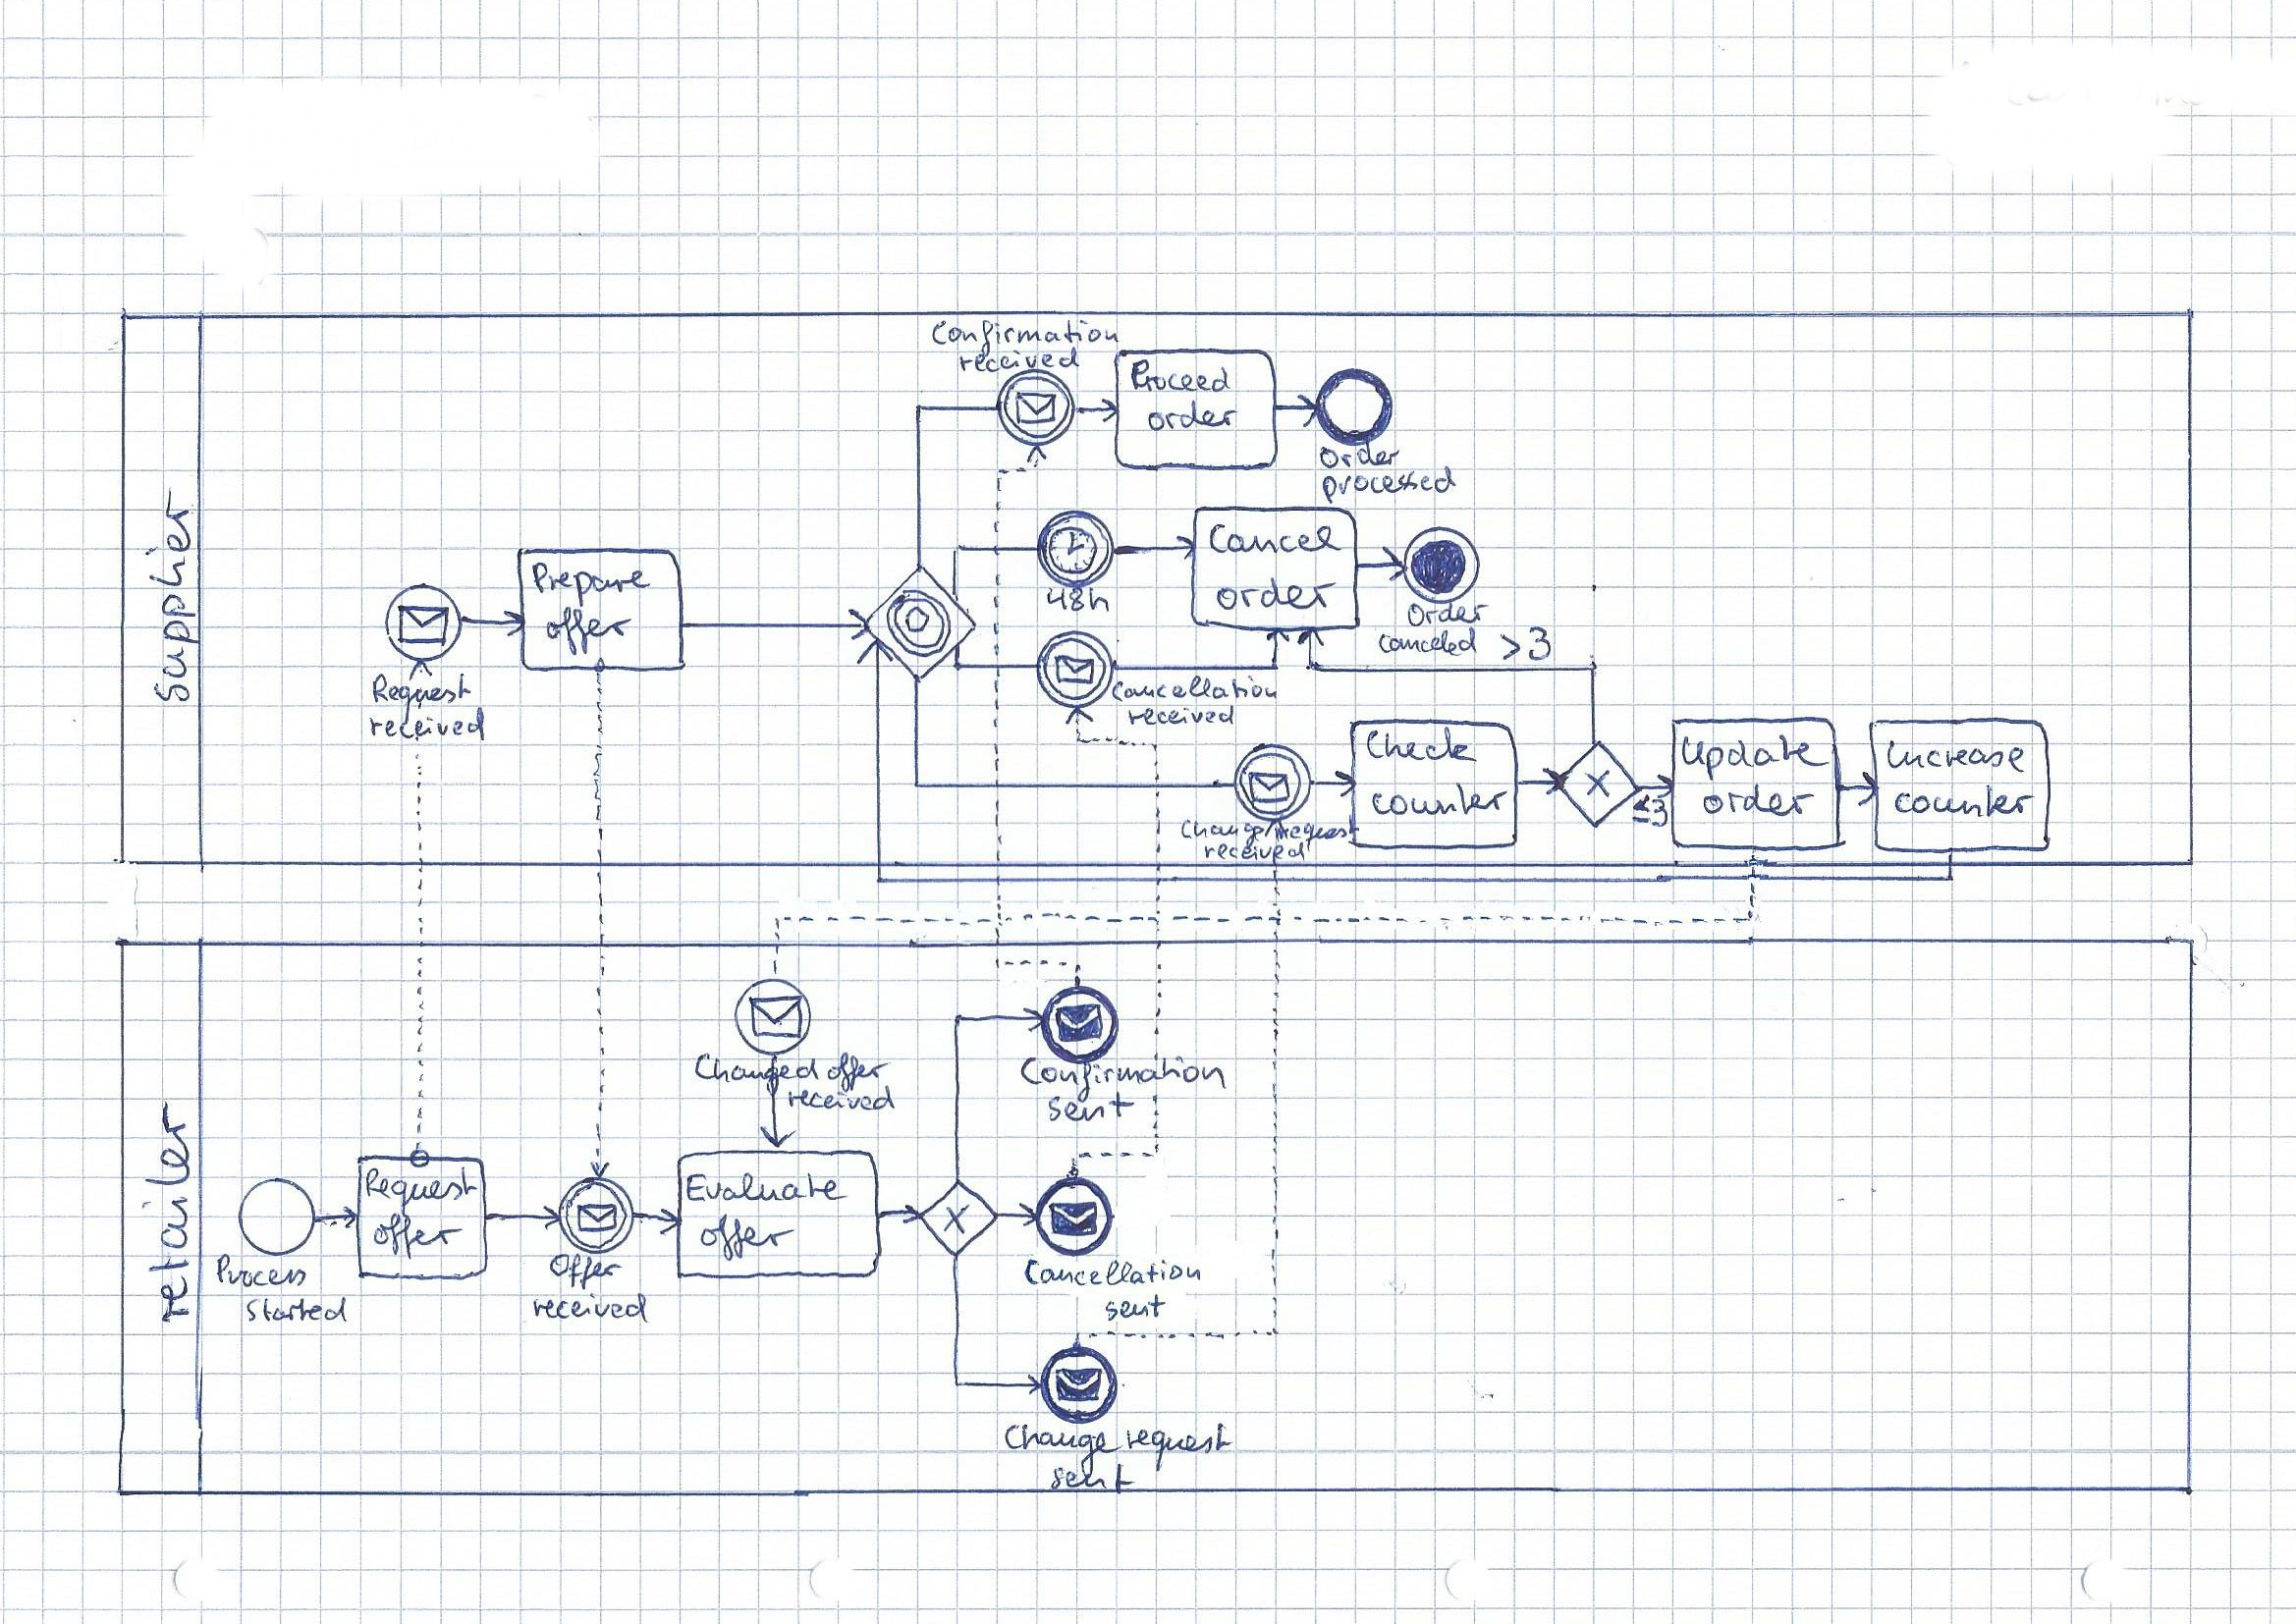/: (1261, 817, 1276, 838)
48: (1048, 582, 1083, 615)
<=3: (1621, 793, 1675, 828)
>3: (1498, 620, 1554, 663)
Cancellation: (1025, 1257, 1204, 1290)
Change: (1000, 1422, 1111, 1459), (1180, 816, 1262, 842)
Changed: (691, 1053, 812, 1091)
Check: (1364, 729, 1479, 766)
Confirmation: (1021, 1053, 1229, 1095)
Evaluate: (684, 1169, 844, 1209)
Increase: (1879, 740, 2034, 777)
Offer: (552, 1253, 624, 1287)
Order: (1401, 601, 1493, 629)
Prepare: (526, 559, 650, 601)
Proceed: (1125, 359, 1231, 399)
Process: (213, 1253, 311, 1290)
Request: (357, 1165, 475, 1204), (369, 675, 475, 708)
cancel: (1204, 524, 1338, 559)
canceled: (1373, 629, 1491, 661)
cancellation: (1111, 677, 1283, 703)
confirmation: (928, 320, 1125, 350)
counter: (1362, 780, 1512, 821), (1892, 784, 2036, 824)
h: (1085, 582, 1111, 613)
offer: (541, 601, 633, 649), (700, 1214, 791, 1260), (371, 1216, 466, 1251), (817, 1053, 886, 1091)
order: (1217, 578, 1338, 615), (1704, 786, 1813, 824), (1144, 399, 1236, 434), (1324, 445, 1405, 473)
processed: (1320, 466, 1459, 503)
received: (362, 710, 485, 747), (781, 1079, 895, 1116), (529, 1294, 652, 1325), (956, 346, 1085, 374), (1129, 705, 1234, 728), (1202, 840, 1315, 861)
request: (1116, 1420, 1234, 1462), (1276, 816, 1355, 838)
retailer: (144, 1106, 195, 1327)
sent: (1044, 1090, 1143, 1125), (1044, 1462, 1141, 1494), (1101, 1292, 1166, 1322)
started: (243, 1295, 350, 1329)
supplier: (153, 501, 197, 707)
update: (1679, 728, 1834, 782)
